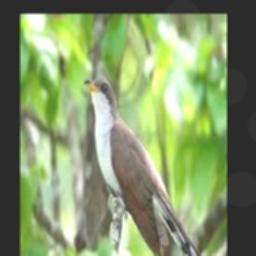Cuckoo: (84, 76, 213, 256)
